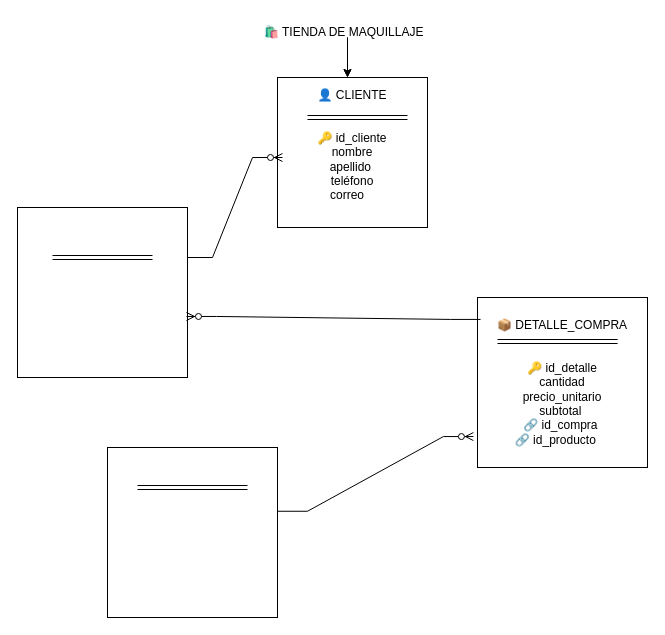
This 665x635 diagram has some shape labels left out. The centre of each missing label's shape, as x and y in pixels:
"💄 PRODUCTO 🔑 id_producto nombre precio stock" belongs at (192,532).
"🧾 COMPRA 🔑 id_compra fecha total 🔗 id_cliente" belongs at (102,292).
